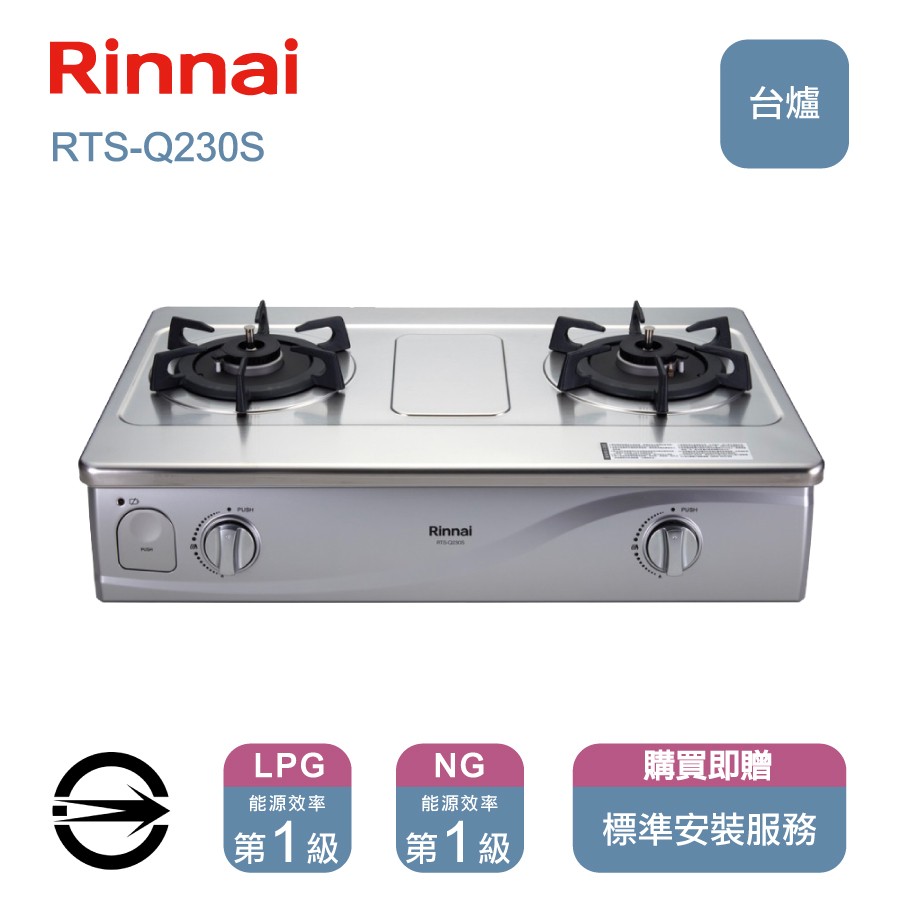gasoven: (74, 294, 828, 612)
